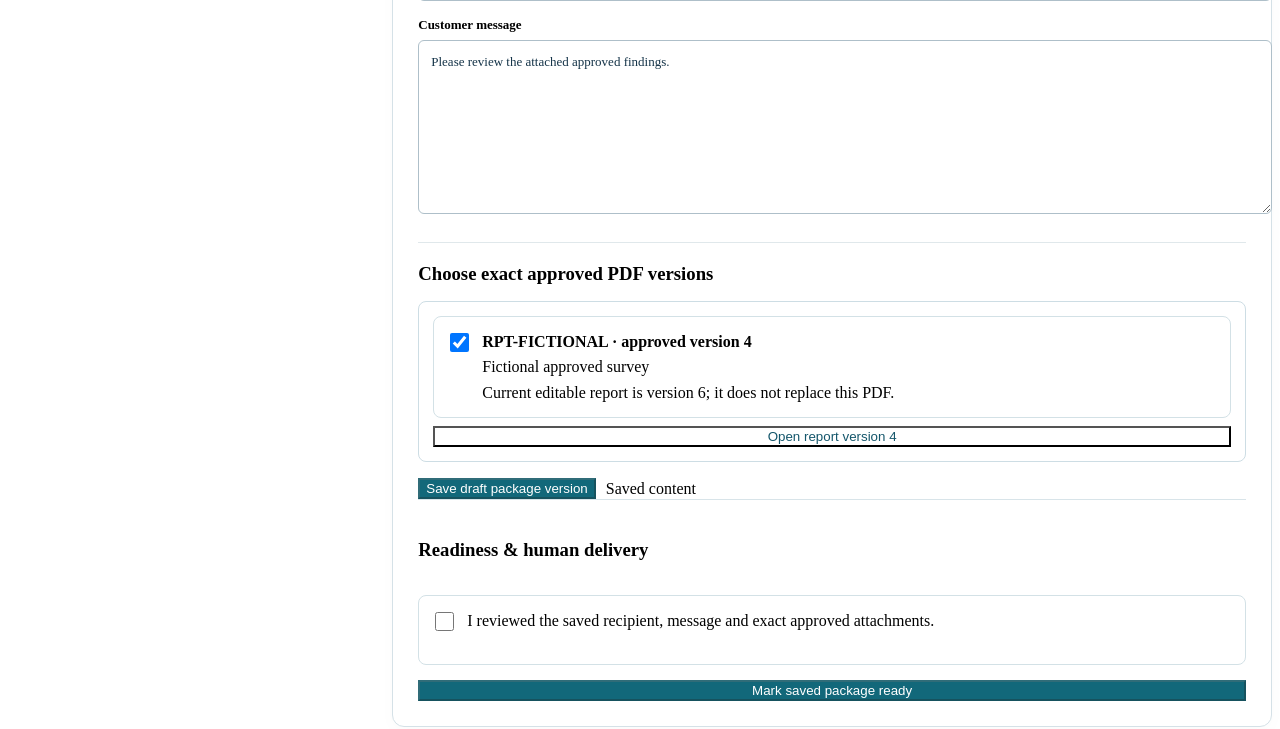
Test: approved delivery and live readiness UI › marks readiness only through the explicit saved-version confirmation POST
(page scrolled)
Click the checkbox labelled "I reviewed the saved recipient, message and exact approved attachments." at (445, 621), box x1=435 y1=612 x2=454 y2=631
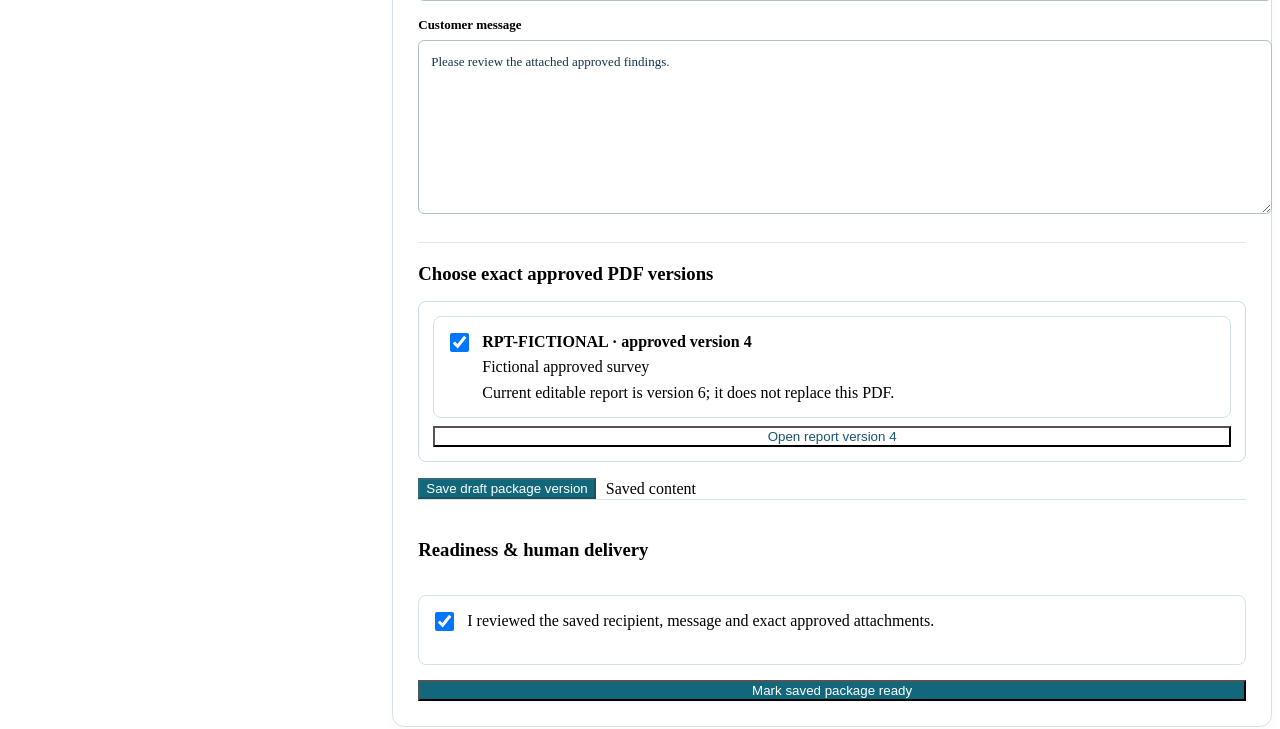
Click the button "Mark saved package ready" at (832, 690), box x1=418 y1=680 x2=1246 y2=701
(page scrolled)
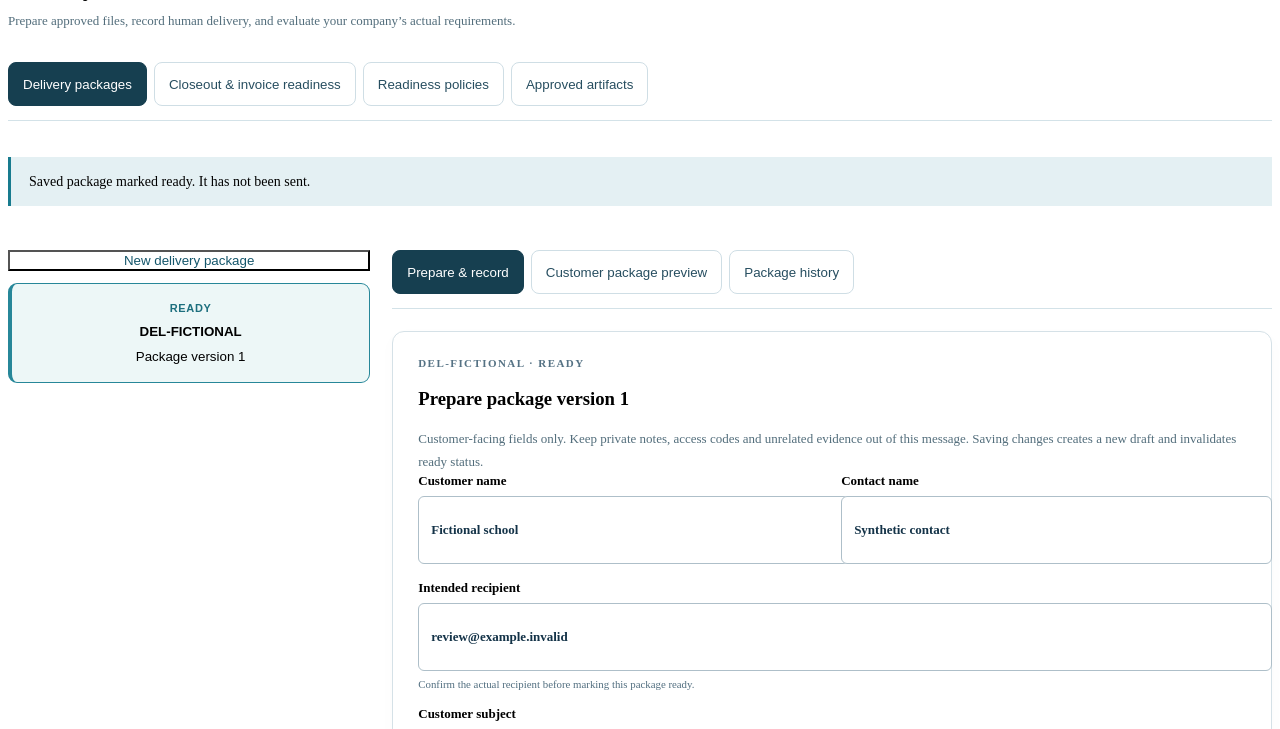
Now the text "Saved package marked ready. It has not been sent." is shown, box x1=8 y1=157 x2=1272 y2=206
